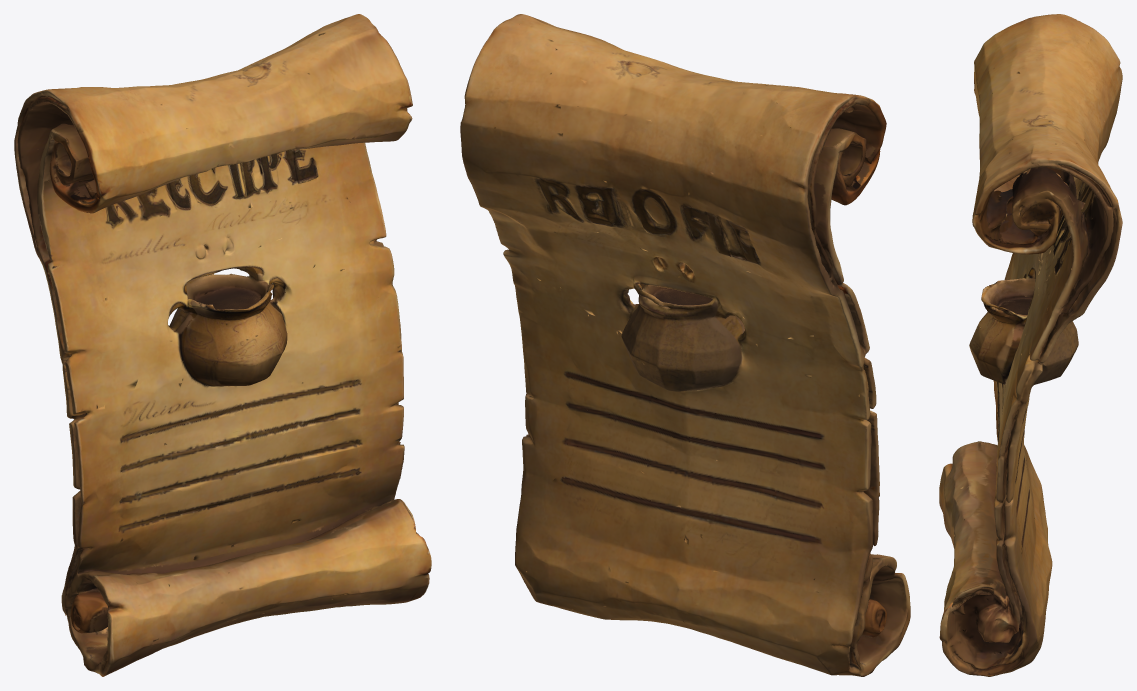
The model's file is Ancient_Recipe_Scroll_0730020115_texture.fbx.
3 views of the same model, side by side, from view 1: azimuth 30°, elevation 25°; view 2: azimuth 150°, elevation 25°; view 3: azimuth 270°, elevation 25° (orthographic). The views are drawn at different scales.
Parts seen in each view (by area): view 1: input; view 2: input; view 3: input.
Boxes of the visible parts, x1=… form: input: x1=14, y1=14, x2=431, y2=676; input: x1=460, y1=14, x2=910, y2=676; input: x1=939, y1=14, x2=1122, y2=676.
Size of the model in its own units: 124 by 200 by 63.64.
Materials: 1 (1 with a texture image).
